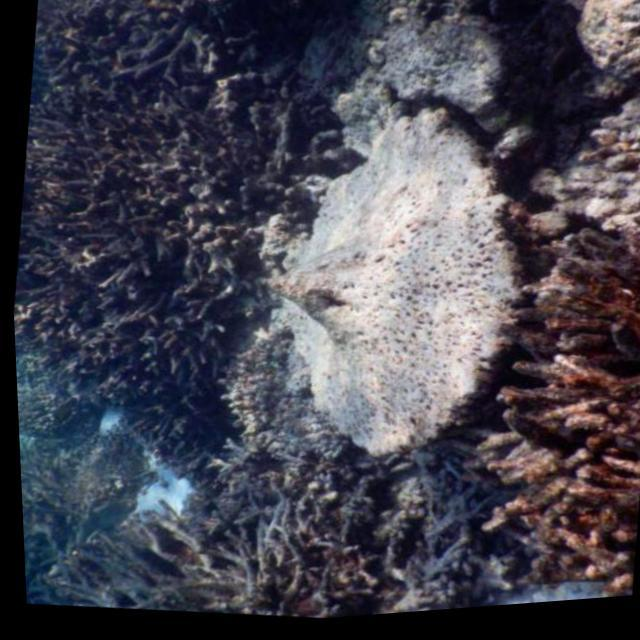Dead Coral: (0, 0, 286, 463), (63, 437, 463, 638)
